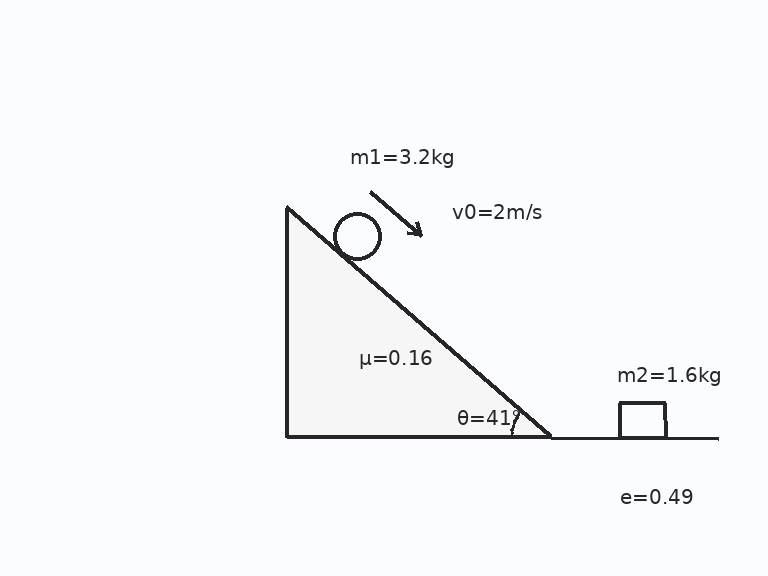ball: (331, 210, 383, 262)
block: (617, 401, 667, 439)
ramp: (285, 205, 553, 439)
